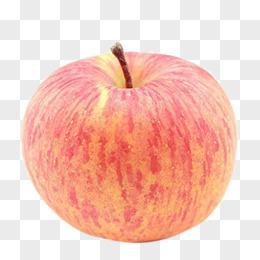apple: (22, 45, 236, 243)
